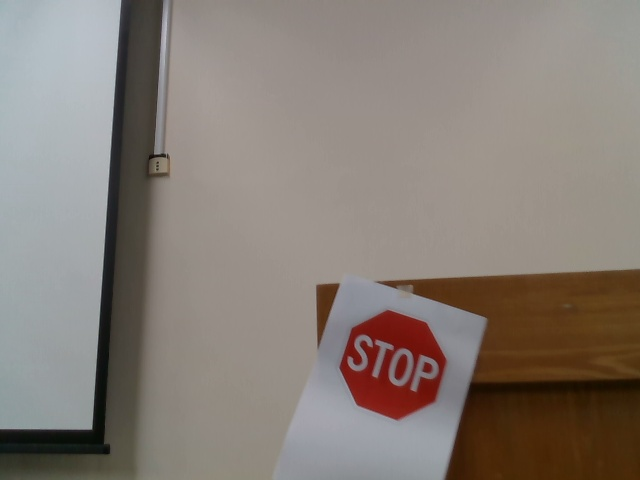stop: (336, 309, 450, 421)
